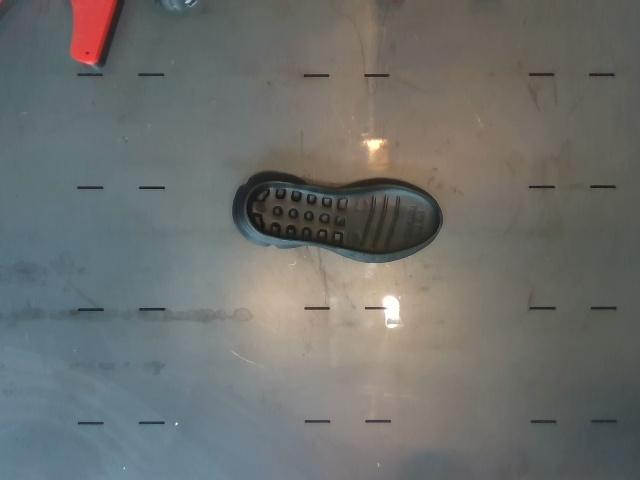shoes: (246, 183, 439, 254)
